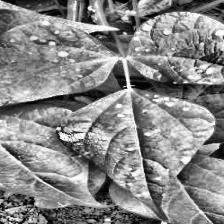Bean Rust: (59, 87, 215, 220), (0, 18, 123, 117), (131, 16, 224, 96)
